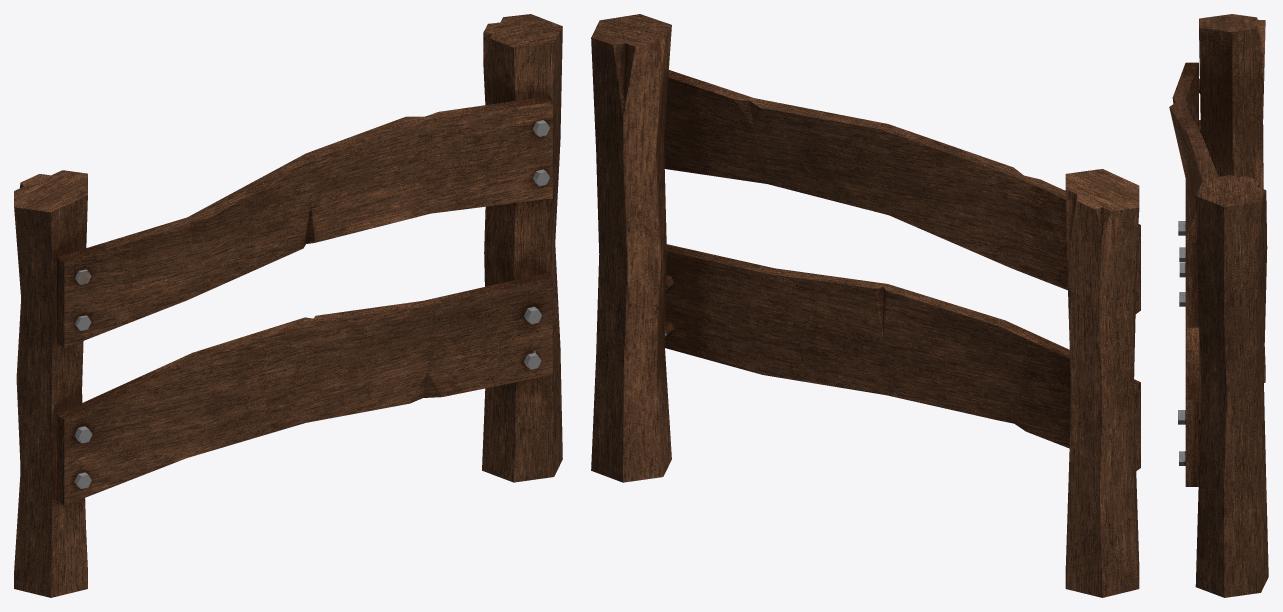
File: Fences.fbx
The picture shows the model from 3 angles, left to right: view 1: azimuth 30°, elevation 25°; view 2: azimuth 150°, elevation 25°; view 3: azimuth 270°, elevation 25°; orthographic projection. The views are drawn at different scales.
Visible parts, largest first — view 1: Fence_Barrier; view 2: Fence_Barrier; view 3: Fence_Barrier.
Boxes of the visible parts, left/top/right/bottom form: Fence_Barrier: left=14, top=14, right=562, bottom=597; Fence_Barrier: left=591, top=14, right=1140, bottom=597; Fence_Barrier: left=1169, top=14, right=1268, bottom=597.
Bounding box in the file's own units: 14.74 × 11.26 × 2.59.
Materials: 1 (1 with a texture image).
